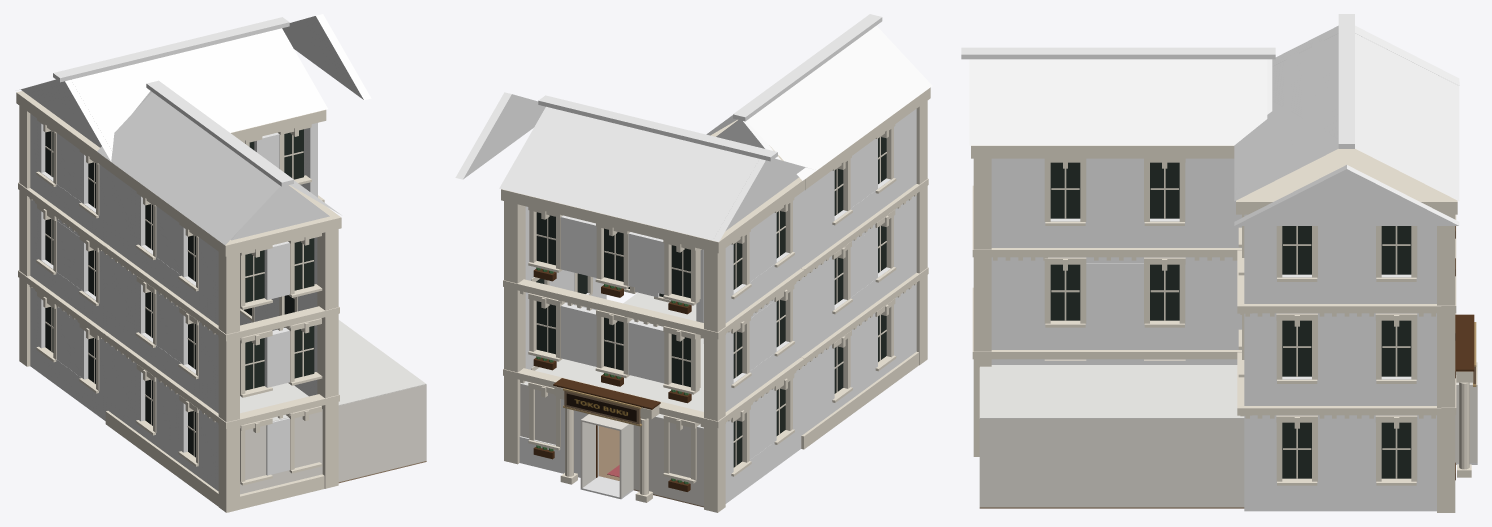
Rendered from gedung-g09-blender-v2.glb.
3 renders of one model, left to right at view 1: azimuth 30°, elevation 25°; view 2: azimuth 150°, elevation 25°; view 3: azimuth 270°, elevation 25°, orthographic. The views are drawn at different scales.
Parts seen in each view (by area): view 1: Cube.048, Cube.009, Cube.732, Int_Room, Cube.014, Cube; view 2: Cube.009, Cube.048, Cube.732, Int_Room, Cube, Cube.014, Cube.017, Int_Sign; view 3: Cube.048, Cube.732, Cube.009, Int_Room, Cube.014, Cube.017.
Boxes of the visible parts, x1,y1,x2,y2 form: Cube.048: [21, 14, 371, 491]; Cube.009: [16, 91, 341, 512]; Cube.732: [19, 17, 341, 244]; Int_Room: [240, 320, 426, 494]; Cube.014: [45, 129, 314, 457]; Cube: [134, 91, 329, 475]; Cube.009: [501, 87, 930, 512]; Cube.048: [455, 92, 916, 503]; Cube.732: [499, 14, 932, 241]; Int_Room: [520, 292, 703, 507]; Cube: [519, 120, 780, 477]; Cube.014: [536, 137, 886, 467]; Cube.017: [533, 268, 691, 491]; Int_Sign: [563, 388, 641, 426]; Cube.048: [991, 29, 1459, 511]; Cube.732: [961, 14, 1459, 201]; Cube.009: [971, 145, 1473, 512]; Int_Room: [979, 362, 1477, 508]; Cube.014: [1050, 162, 1411, 478]; Cube.017: [1455, 226, 1474, 480].
Bounding box in the file's own units: 10.8 × 12.48 × 15.61.
28 materials, 1 textured.
